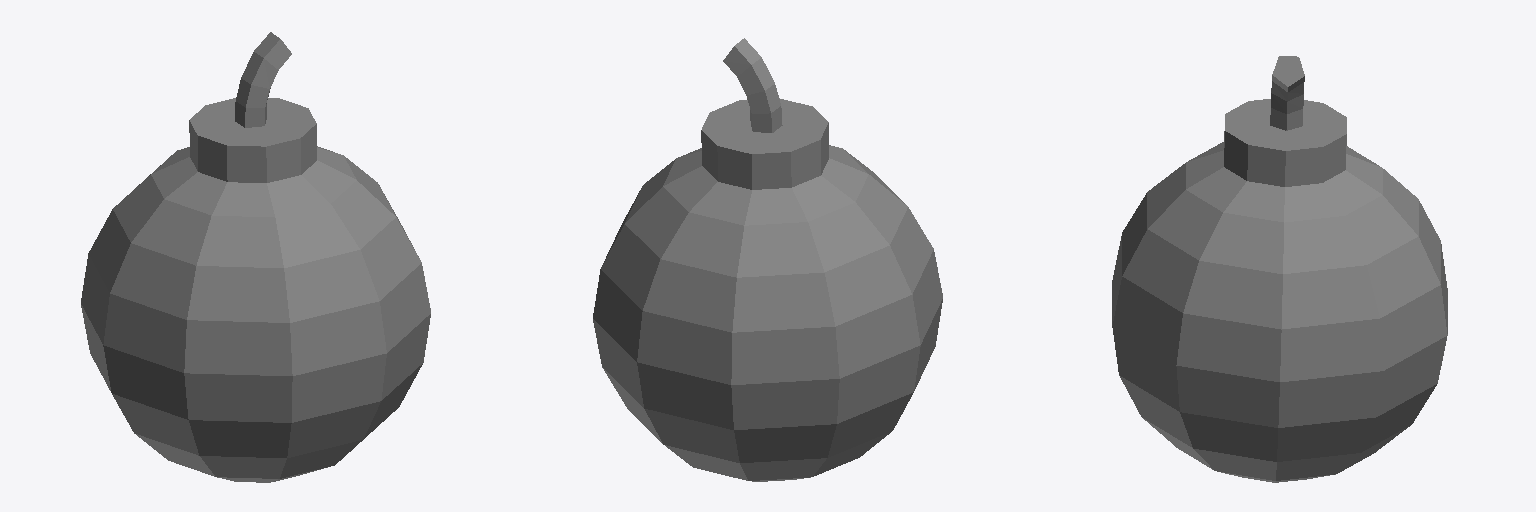
Rendered from Bomb.obj.
3 views of the same model, side by side, from view 1: azimuth 30°, elevation 25°; view 2: azimuth 150°, elevation 25°; view 3: azimuth 270°, elevation 25° (orthographic).
Visible parts, largest first — view 1: Inst3D29_RefRep.223; view 2: Inst3D29_RefRep.223; view 3: Inst3D29_RefRep.223.
Boxes of the visible parts, x1,y1,x2,y2 form: Inst3D29_RefRep.223: [81, 32, 430, 482]; Inst3D29_RefRep.223: [593, 38, 942, 481]; Inst3D29_RefRep.223: [1112, 56, 1447, 482].
Bounding box in the file's own units: 3.66 × 4.85 × 3.48.